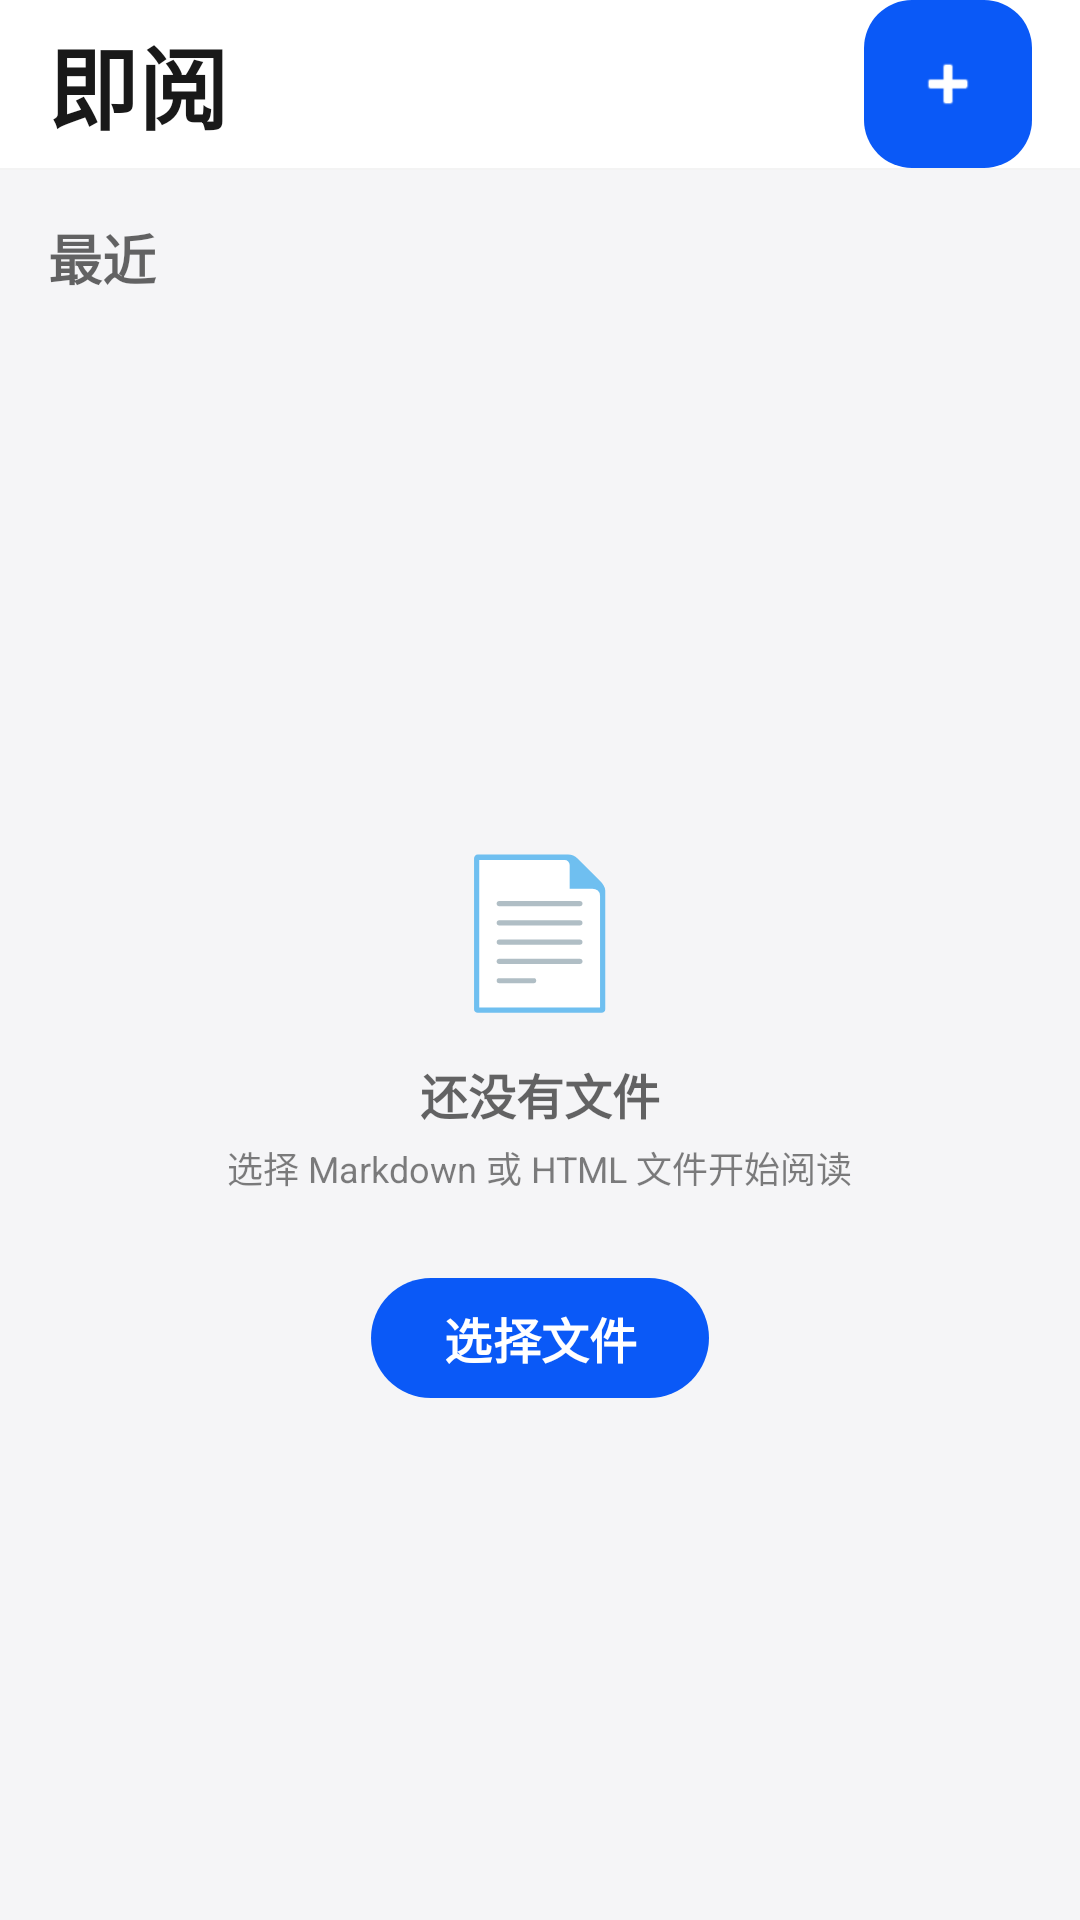

Point at icon controls on the screen. Image size 1080px×1920px, points as [x,y].
选择文件: [948,84]
